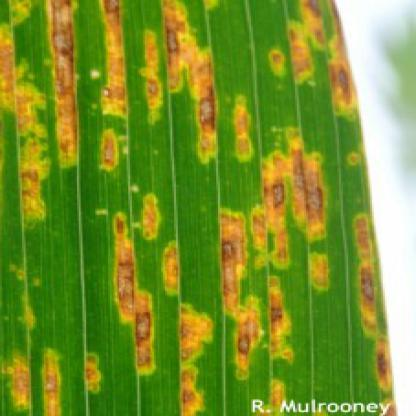Corn Gray leaf spot: (1, 1, 400, 414)
